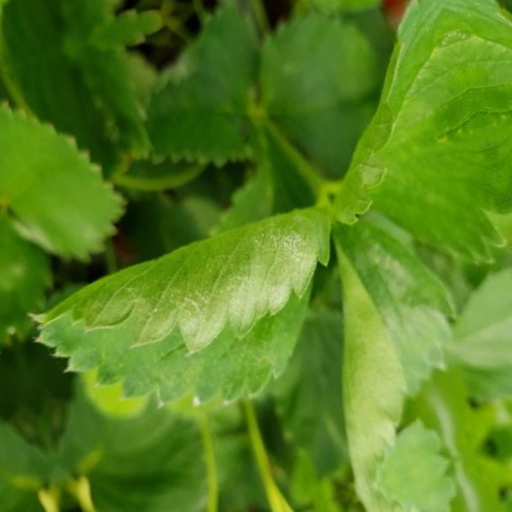Powdery Mildew Leaf: (173, 123, 493, 289)
